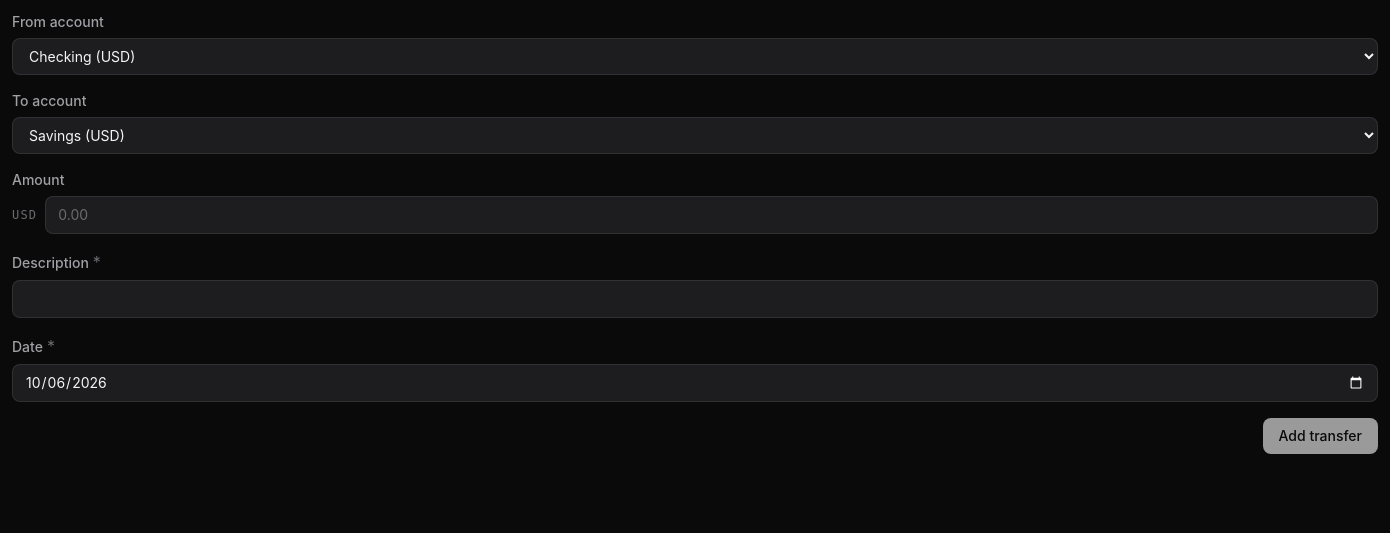
it: TransferForm — create › surfaces the server's cross-currency 422 as a friendly error
Select "Checking (USD)" in the dropdown labelled "From account" at point(695, 56), box [12,38,1378,75]
Select "Savings (USD)" in the dropdown labelled "To account" at point(695, 136), box [12,117,1378,154]
Type "50" into the field labelled "Amount" at point(712, 215), box [45,196,1378,234]
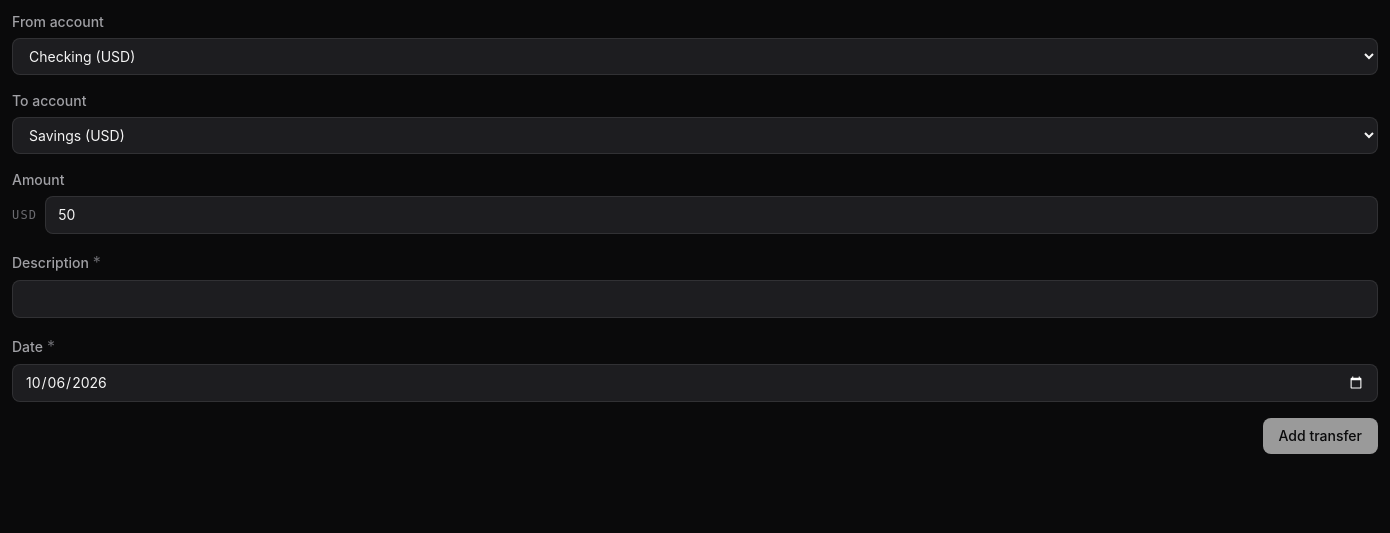
Type "x" into the field labelled "Description" at point(695, 299), box [12,280,1378,318]
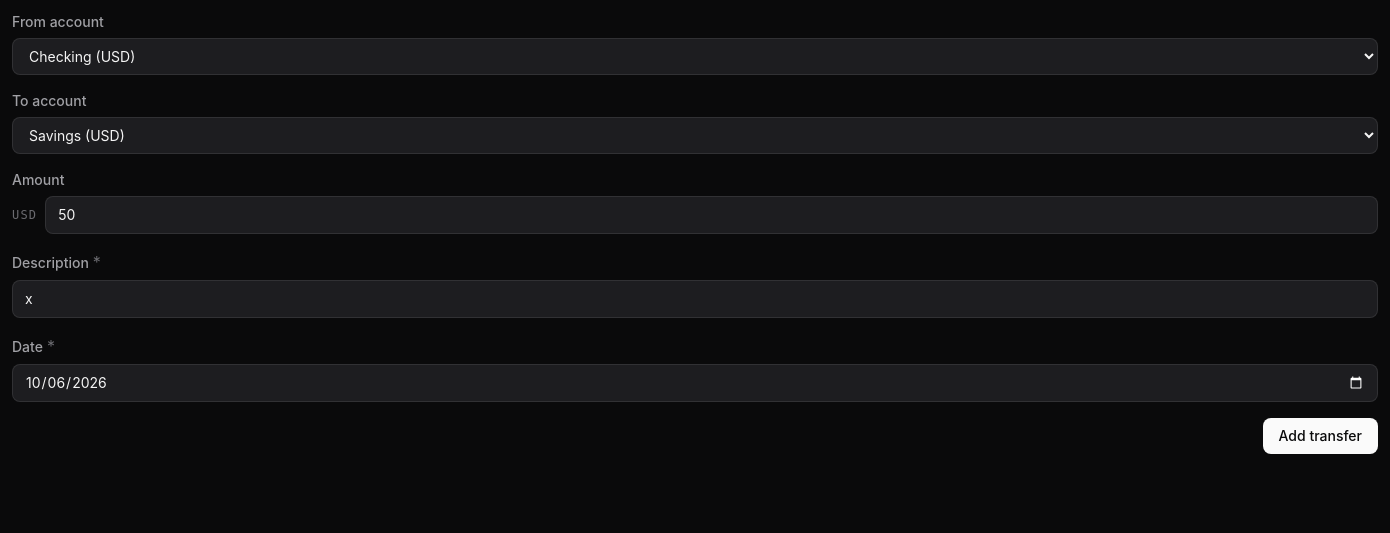
Type "2026-09-11" into the date field labelled "Date" at point(695, 383), box [12,364,1378,402]
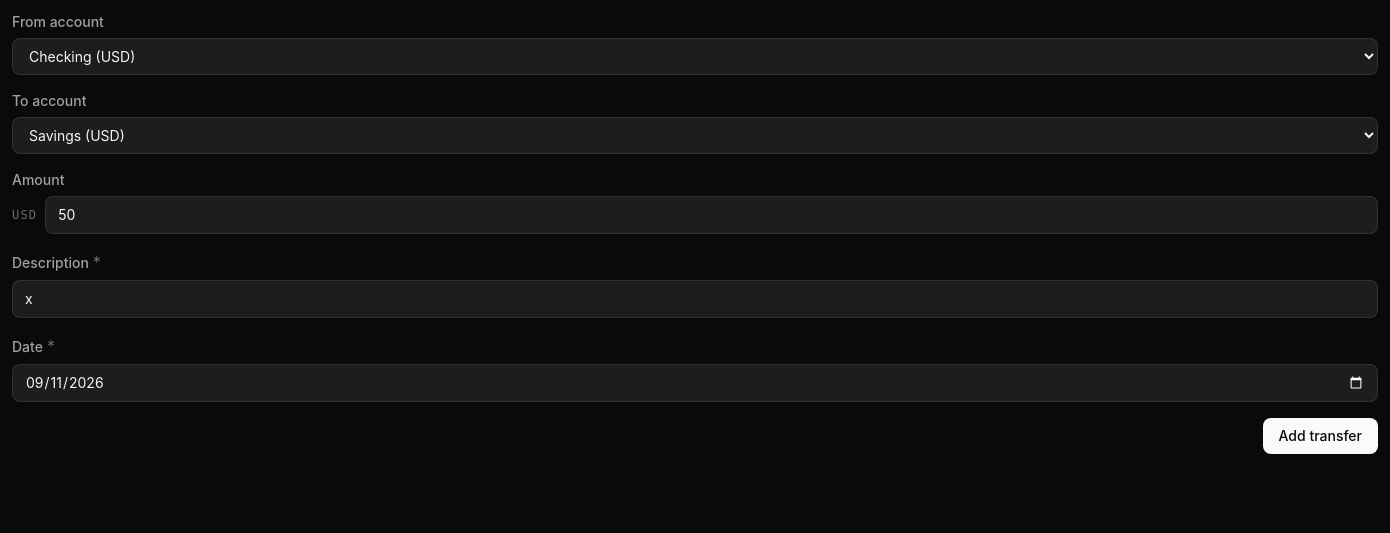
Click the button "Add transfer" at point(1320, 436), box [1262,418,1378,454]
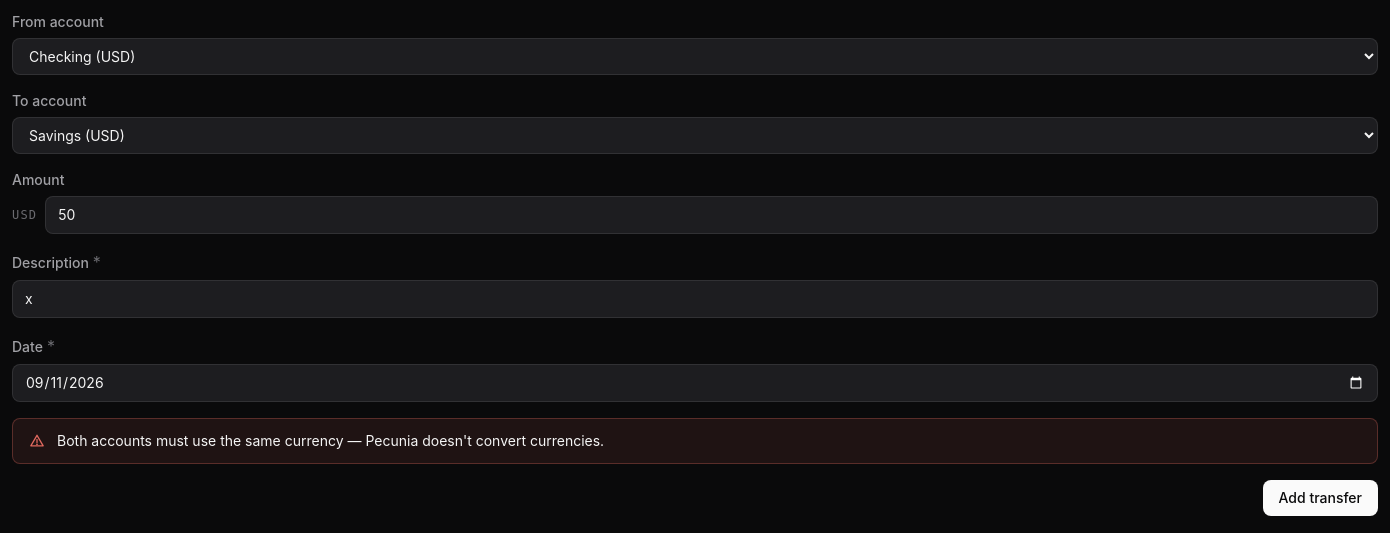
Expected: the message shows "currency", [57,432,604,449]
